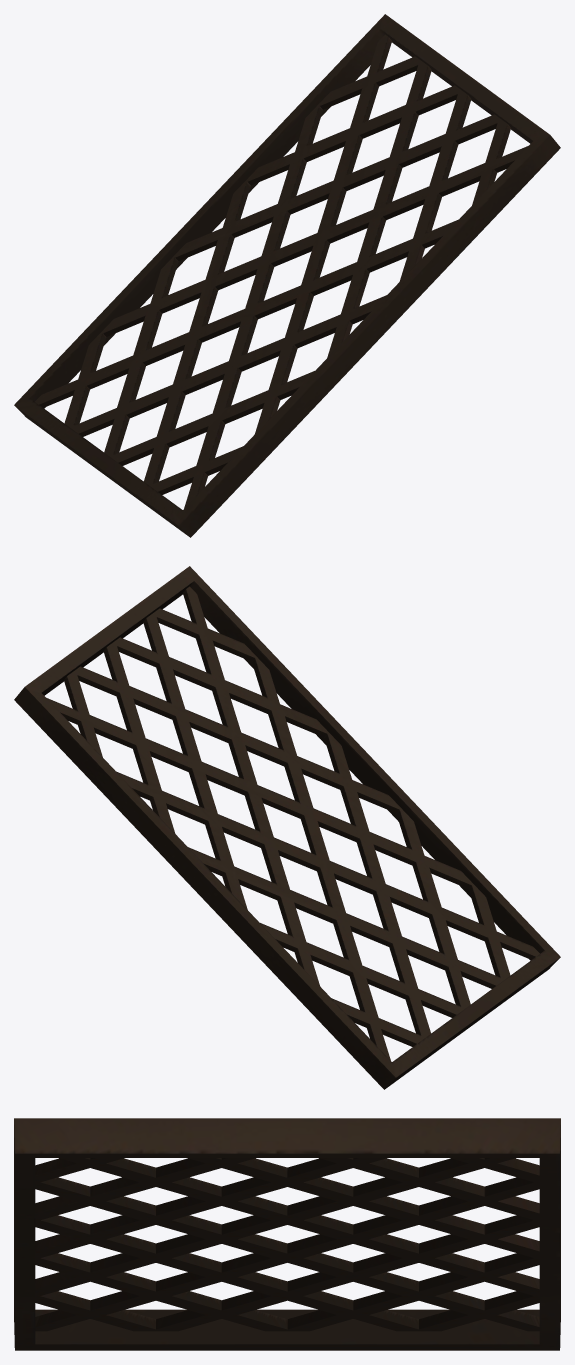
File: Incline.fbx
3 renders of one model, top to bottom at view 1: azimuth 30°, elevation 25°; view 2: azimuth 150°, elevation 25°; view 3: azimuth 270°, elevation 25°, orthographic. The views are drawn at different scales.
Parts seen in each view (by area): view 1: Incline; view 2: Incline; view 3: Incline.
Boxes of the visible parts, x1,y1,x2,y2 form: Incline: [14, 14, 560, 537]; Incline: [14, 566, 560, 1089]; Incline: [14, 1118, 560, 1350].
Size of the model in its own units: 263 by 207 by 196.
